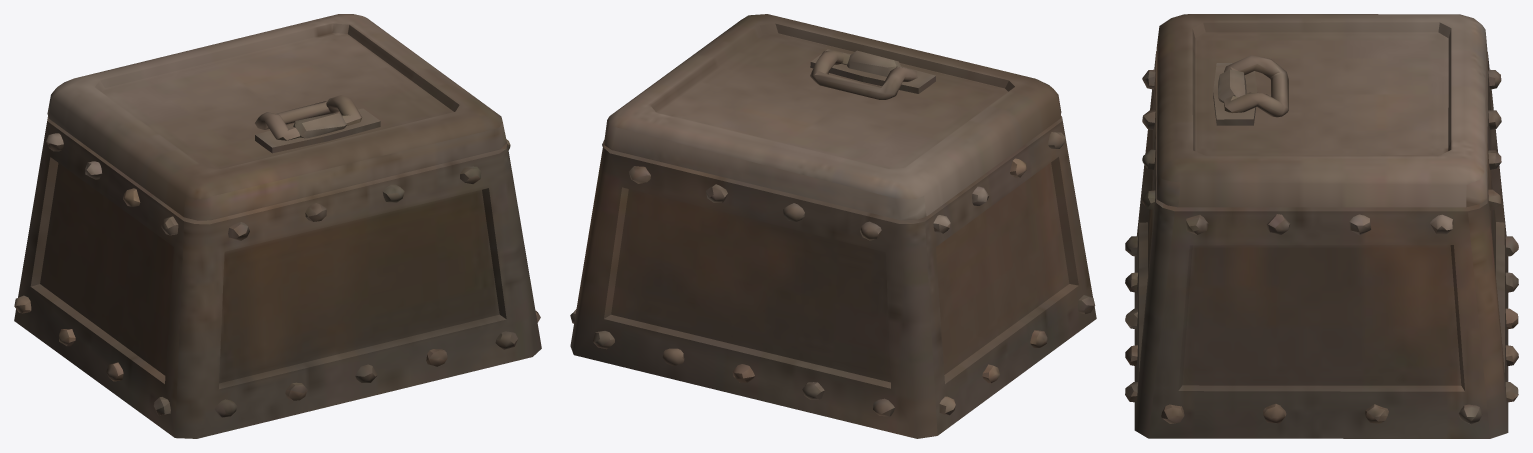
The model's file is iron-chest.glb.
3 renders of one model, left to right at view 1: azimuth 30°, elevation 25°; view 2: azimuth 150°, elevation 25°; view 3: azimuth 270°, elevation 25°, orthographic. The views are drawn at different scales.
Visible parts, largest first — view 1: body; view 2: body; view 3: body.
Boxes of the visible parts, x1=… form: body: x1=14, y1=14, x2=541, y2=438; body: x1=570, y1=14, x2=1096, y2=438; body: x1=1125, y1=14, x2=1518, y2=438.
Bounding box in the file's own units: 0.9863 × 0.6161 × 0.8192.
1 material, 1 textured.
